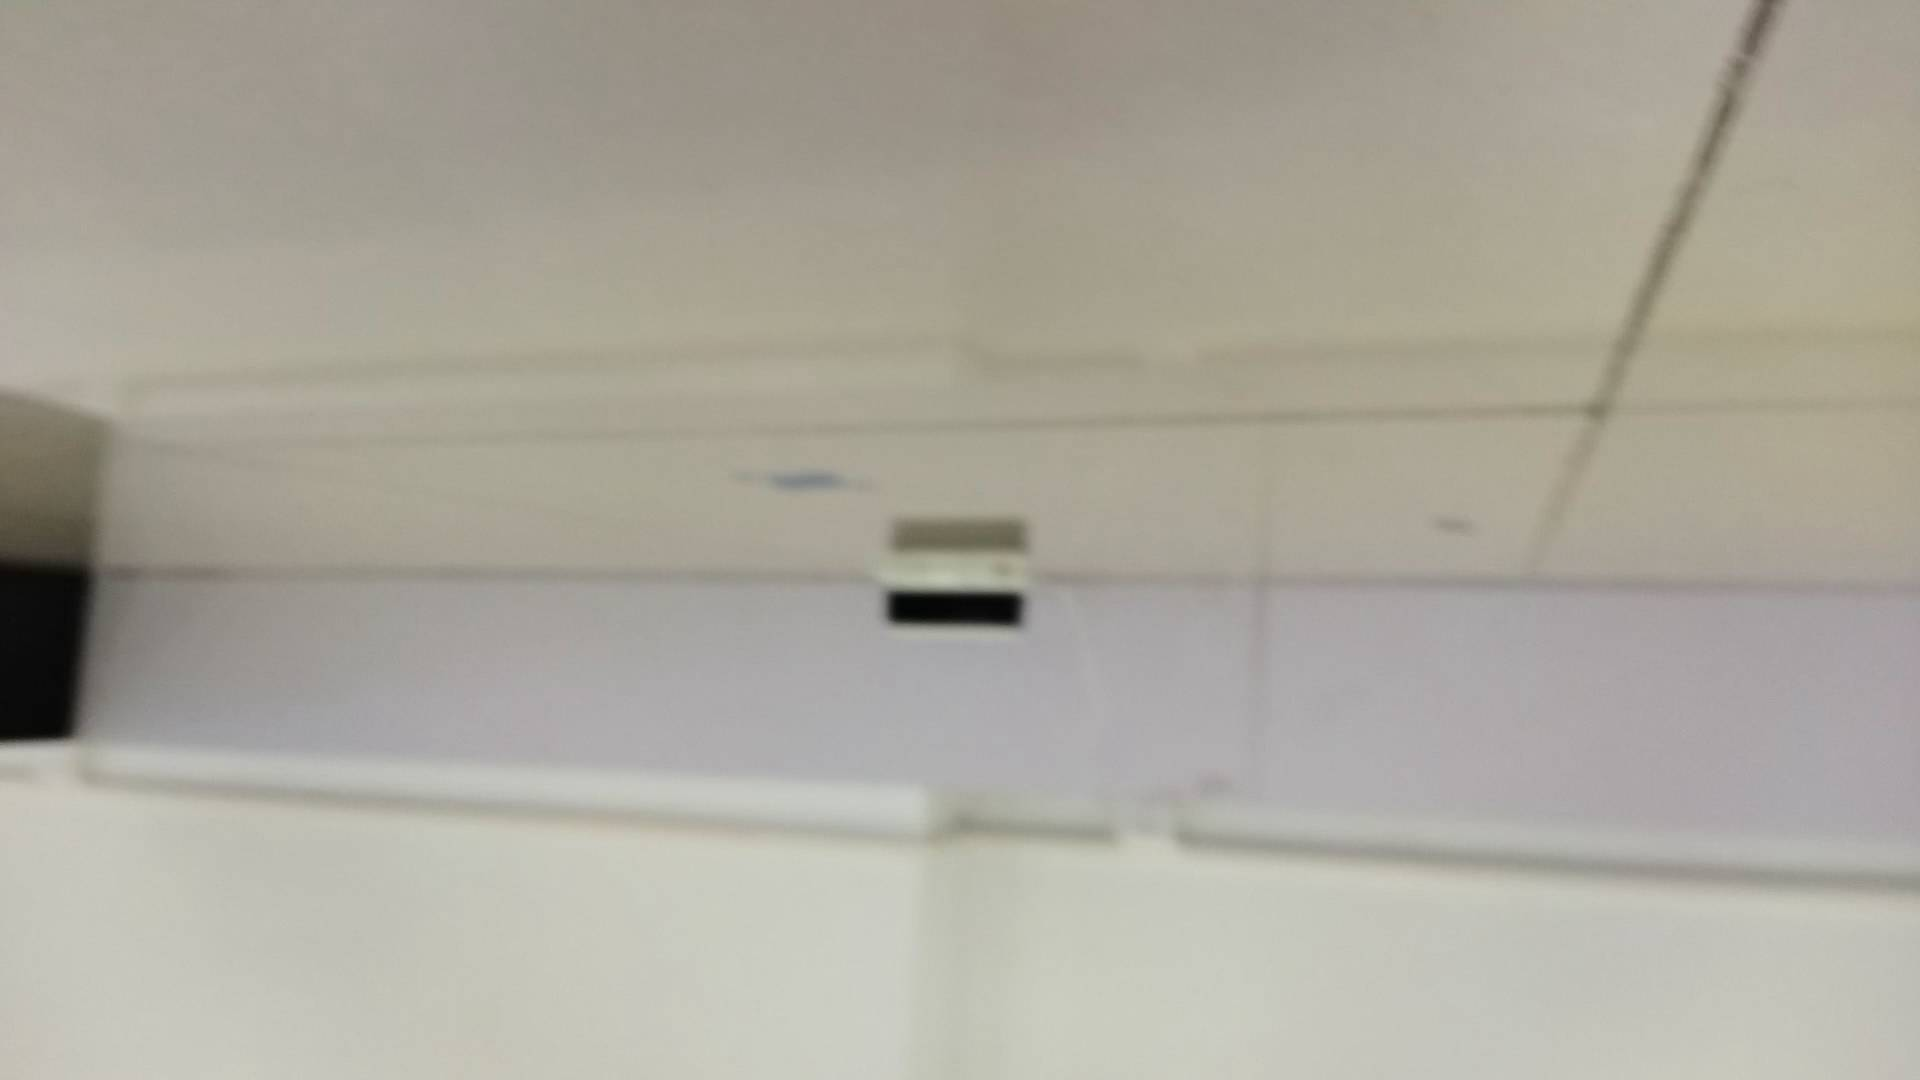recharge seat: (873, 545, 1035, 636)
